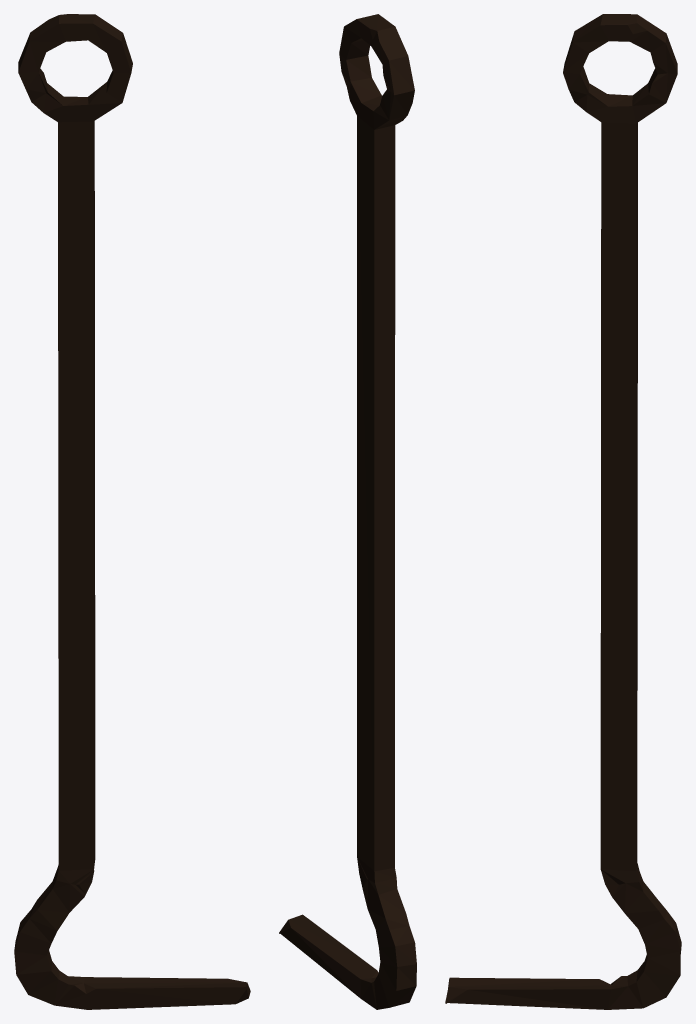
File: SFFA_Tool_004.fbx
3 views of the same model, side by side, from view 1: azimuth 90°, elevation 25°; view 2: azimuth 210°, elevation 25°; view 3: azimuth 270°, elevation 25° (orthographic).
Parts seen in each view (by area): view 1: SFFA_Tool_004; view 2: SFFA_Tool_004; view 3: SFFA_Tool_004.
Part boxes in pixels (x1=…): SFFA_Tool_004: x1=14, y1=14, x2=250, y2=1009; SFFA_Tool_004: x1=279, y1=14, x2=416, y2=1009; SFFA_Tool_004: x1=445, y1=14, x2=681, y2=1009.
Bounding box in the file's own units: 1.54 × 62.1 × 13.5.
